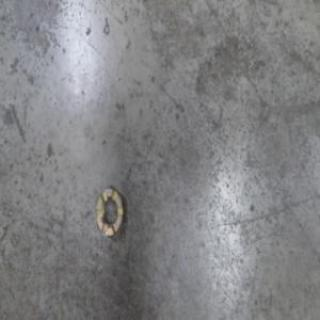Nuttrack_idkeyframe: (93, 185, 124, 240)
